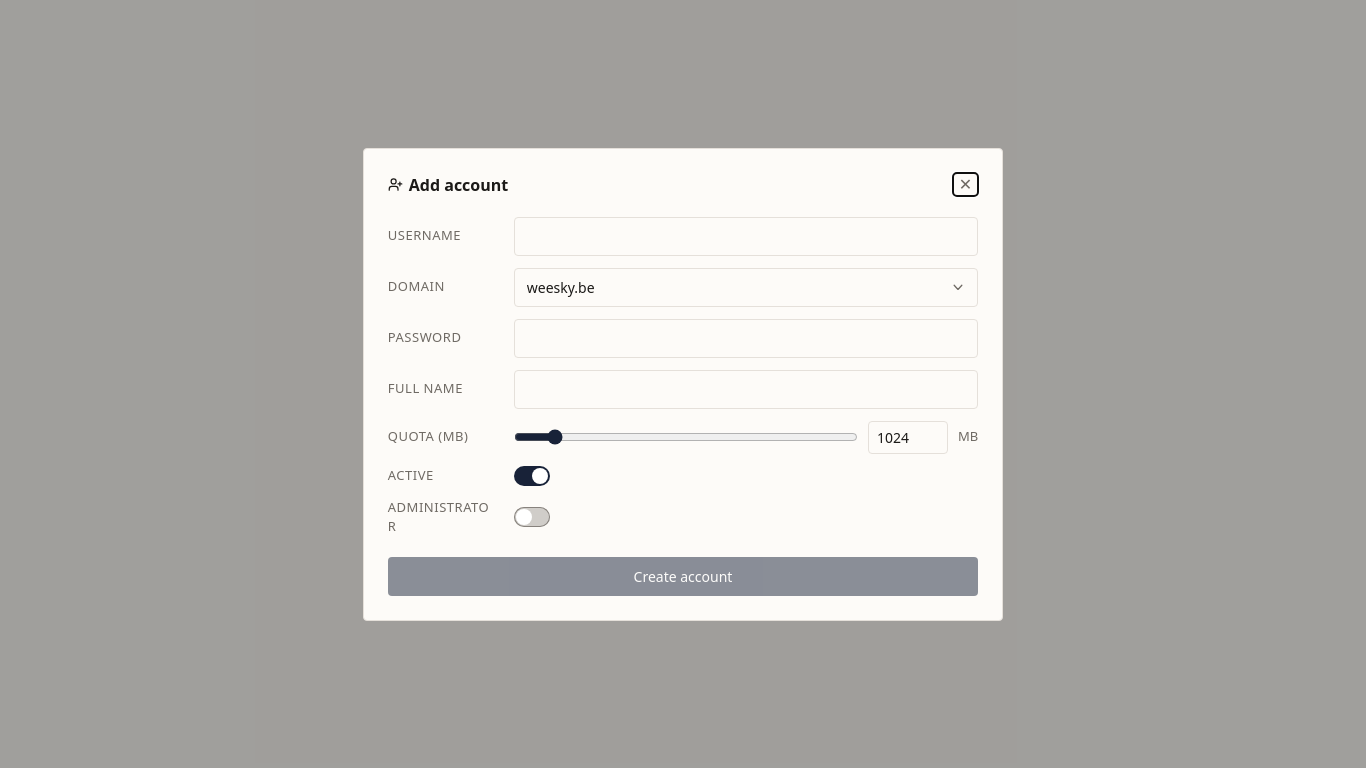
Test: AddEditUserModal — field changes › changing the range slider updates the quota number input
The width and height of the screenshot is (1366, 768).
Step 1. Set the slider to "2048" → (587, 437), box [514,429,858,445]
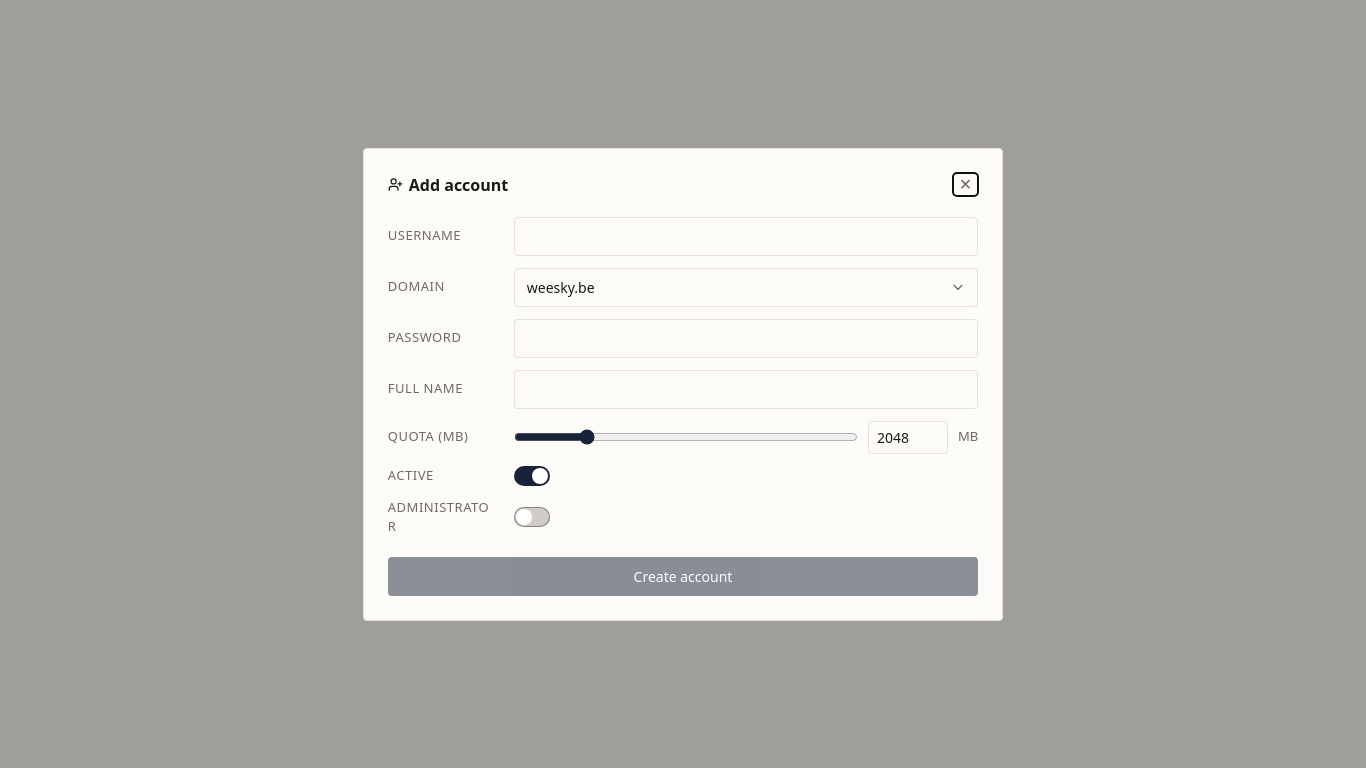
Expected: the number field holds "2048", [868,420,948,454]
